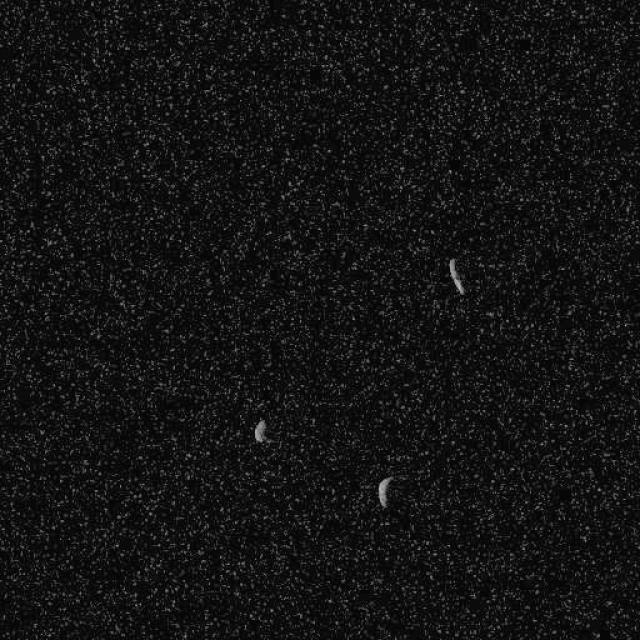D2: (446, 256, 466, 295), (377, 475, 392, 507), (252, 418, 268, 443)
